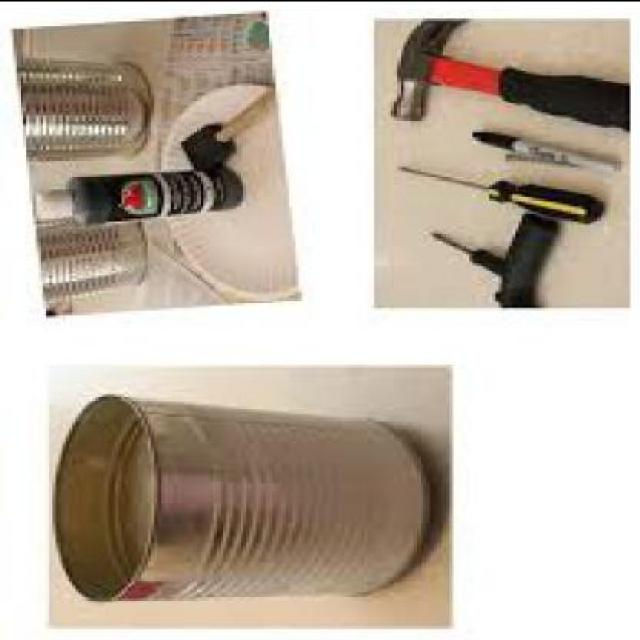METAL: (48, 398, 430, 604), (13, 59, 149, 161), (33, 220, 141, 302), (388, 20, 466, 122), (394, 168, 486, 190), (426, 232, 466, 252)
